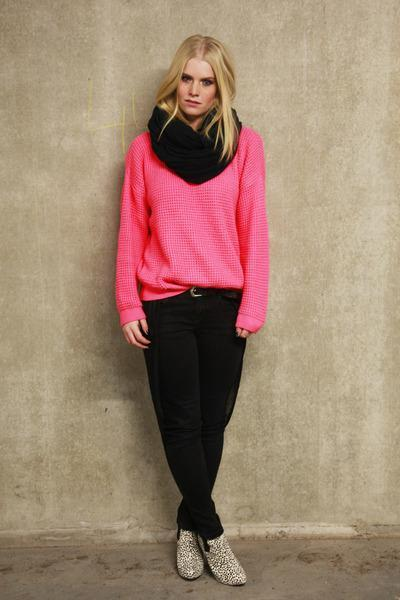jacket: (116, 127, 268, 331)
pants: (139, 284, 245, 554)
shoe: (177, 529, 231, 565)
